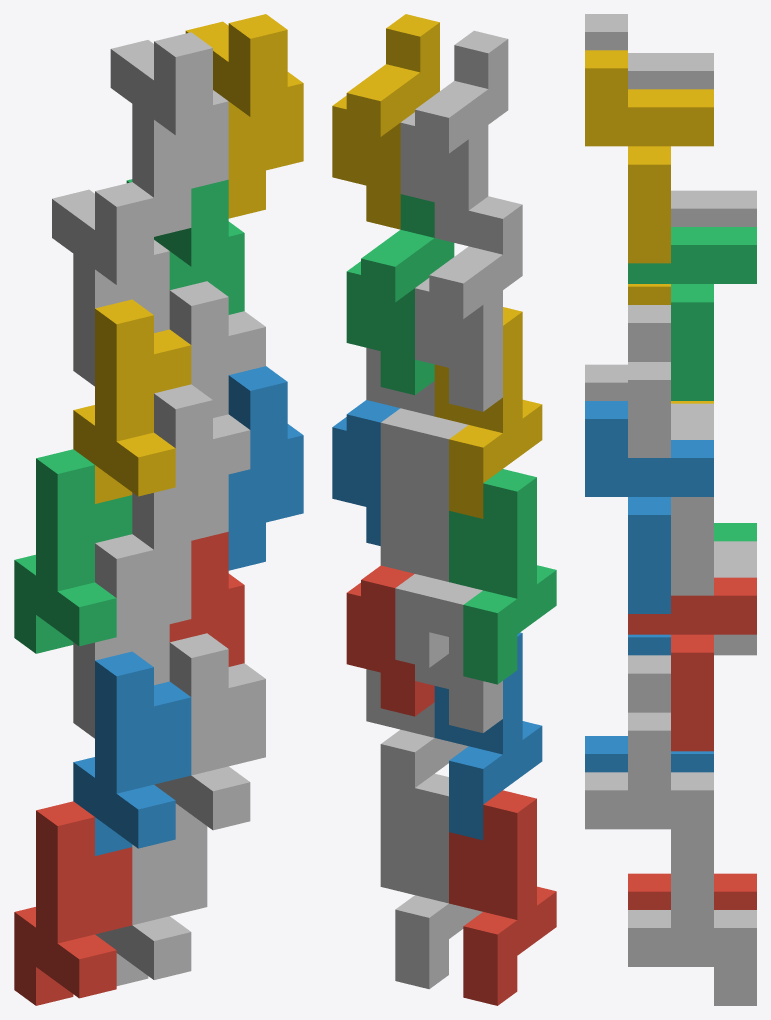
File: tiling.obj
3 renders of one model, left to right at view 1: azimuth 30°, elevation 25°; view 2: azimuth 150°, elevation 25°; view 3: azimuth 270°, elevation 25°, orthographic. The views are drawn at different scales.
Visible parts, largest first — view 1: copy_1_domain_1, copy_1_domain_2, copy_2_domain_4, copy_1_domain_3, copy_1_domain_4, copy_1_domain_6, copy_2_domain_3, copy_2_domain_8, copy_2_domain_2, copy_2_domain_6, copy_1_domain_5, copy_1_domain_8 (+4 smaller); view 2: copy_1_domain_1, copy_1_domain_3, copy_2_domain_3, copy_2_domain_4, copy_2_domain_8, copy_1_domain_5, copy_2_domain_7, copy_1_domain_7, copy_1_domain_4, copy_1_domain_2, copy_2_domain_5, copy_1_domain_6 (+4 smaller); view 3: copy_1_domain_6, copy_2_domain_8, copy_2_domain_6, copy_1_domain_5, copy_2_domain_7, copy_2_domain_5, copy_1_domain_8, copy_1_domain_7, copy_2_domain_4, copy_1_domain_2, copy_1_domain_1, copy_2_domain_3 (+4 smaller).
Part boxes in pixels (box(x1,y1,x2,y2)): copy_1_domain_1: box(14, 801, 132, 1005); copy_1_domain_2: box(73, 651, 191, 855); copy_2_domain_4: box(110, 32, 228, 236); copy_1_domain_3: box(14, 449, 132, 653); copy_1_domain_4: box(73, 299, 191, 503); copy_1_domain_6: box(154, 633, 265, 836); copy_2_domain_3: box(52, 182, 169, 386); copy_2_domain_8: box(185, 14, 303, 218); copy_2_domain_2: box(132, 384, 228, 588); copy_2_domain_6: box(228, 366, 303, 570); copy_1_domain_5: box(95, 829, 207, 985); copy_1_domain_8: box(169, 281, 265, 478); copy_1_domain_1: box(449, 790, 556, 1005); copy_1_domain_3: box(449, 469, 556, 684); copy_2_domain_3: box(415, 196, 522, 411); copy_2_domain_4: box(400, 30, 508, 246); copy_2_domain_8: box(332, 14, 439, 229); copy_1_domain_5: box(380, 773, 482, 989); copy_2_domain_7: box(346, 194, 454, 395); copy_1_domain_7: box(380, 466, 448, 667); copy_1_domain_4: box(434, 307, 542, 518); copy_1_domain_2: box(434, 632, 542, 840); copy_2_domain_5: box(346, 565, 434, 716); copy_1_domain_6: box(366, 669, 468, 823); copy_1_domain_6: box(585, 655, 713, 868); copy_2_domain_8: box(585, 50, 713, 263); copy_2_domain_6: box(585, 401, 713, 613); copy_1_domain_5: box(628, 868, 756, 1005); copy_2_domain_7: box(628, 227, 756, 400); copy_2_domain_5: box(628, 577, 756, 751); copy_1_domain_8: box(628, 305, 713, 517); copy_1_domain_7: box(671, 517, 756, 655); copy_2_domain_4: box(585, 14, 713, 89); copy_1_domain_2: box(585, 634, 713, 772); copy_1_domain_1: box(628, 873, 756, 909); copy_2_domain_3: box(671, 190, 756, 226).
Size of the model in its own units: 6 by 25 by 4.
